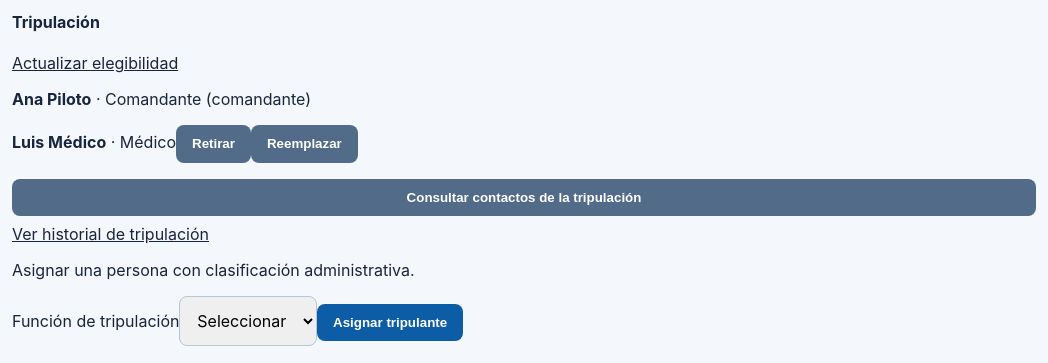
Test: tripulación permite retirar un integrante y vuelve a consultar el backend
Expected: the text "Luis Médico" is shown, [12,132,106,152]
Step 1. Click the button "Retirar" → (214, 144), box [176,125,251,163]
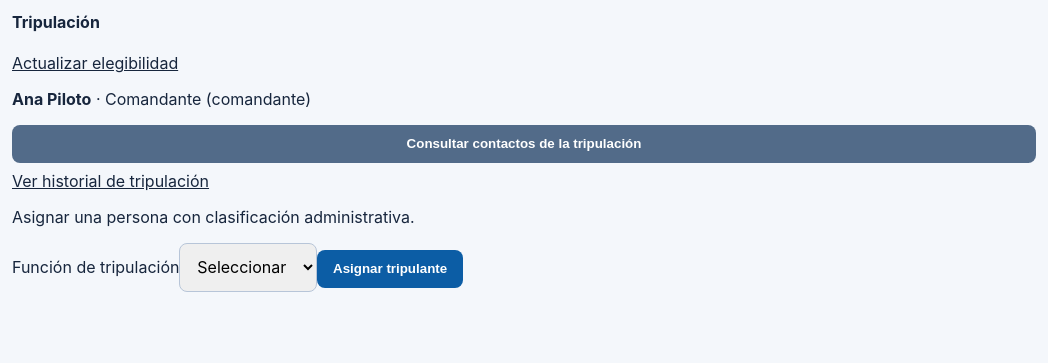
Expected: the text "Luis Médico" is gone
